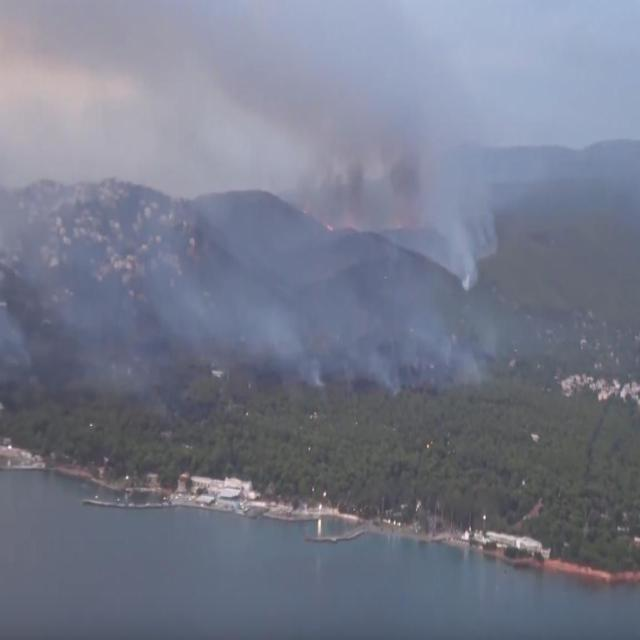Fire: (326, 222, 332, 231)
